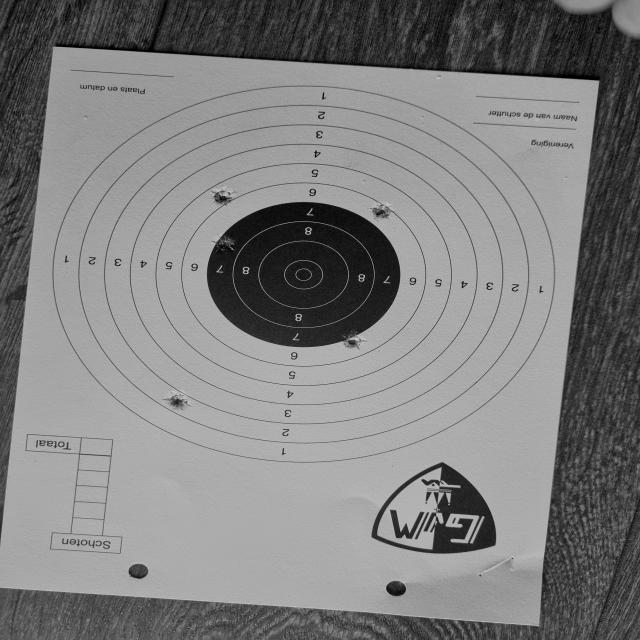3: (160, 393, 189, 411)
6: (368, 203, 393, 221), (210, 187, 235, 205)
7: (213, 234, 236, 250), (342, 334, 364, 349)
Target: (51, 84, 564, 468)
black_contour: (210, 202, 402, 347)
